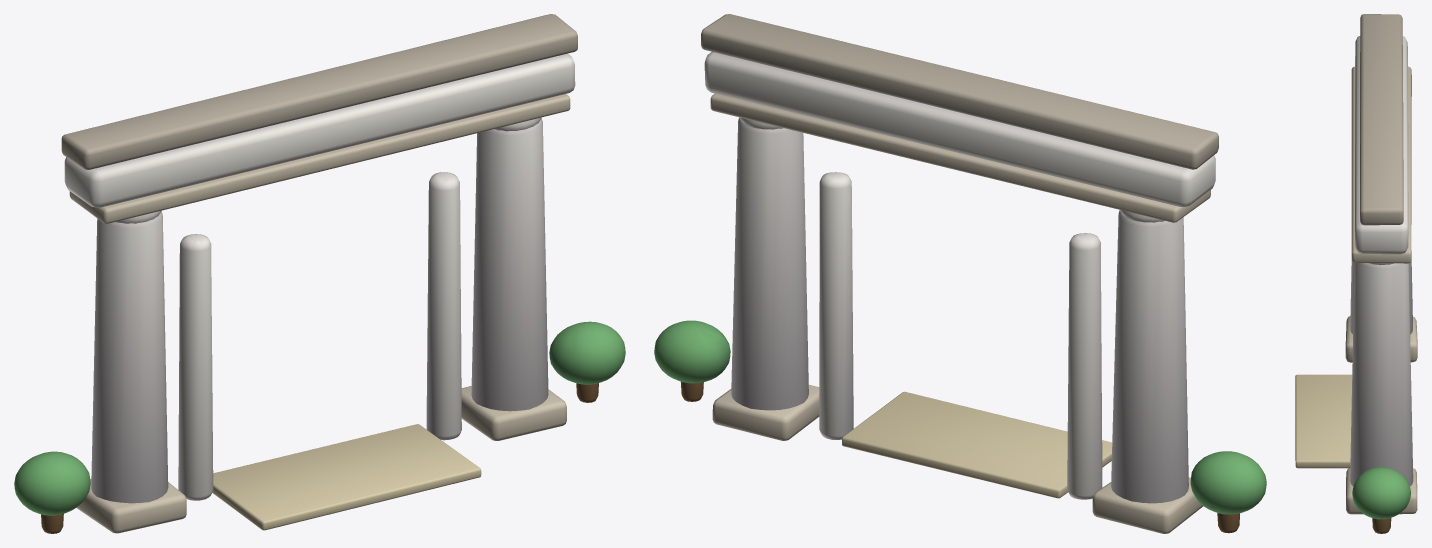
3 renders of one model, left to right at view 1: azimuth 30°, elevation 25°; view 2: azimuth 150°, elevation 25°; view 3: azimuth 270°, elevation 25°, orthographic. The views are drawn at different scales.
Visible parts, largest first — view 1: gate_664f1074; view 2: gate_664f1074; view 3: gate_664f1074.
Boxes of the visible parts, x1,y1,x2,y2 form: gate_664f1074: [14, 14, 625, 533]; gate_664f1074: [654, 14, 1266, 533]; gate_664f1074: [1295, 14, 1417, 533].
Size of the model in its own units: 6.61 by 4.04 by 1.42.
